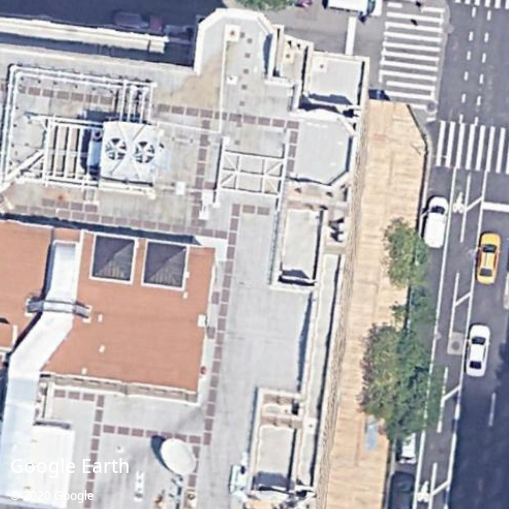Vent: (105, 137, 128, 161), (133, 141, 156, 163)
